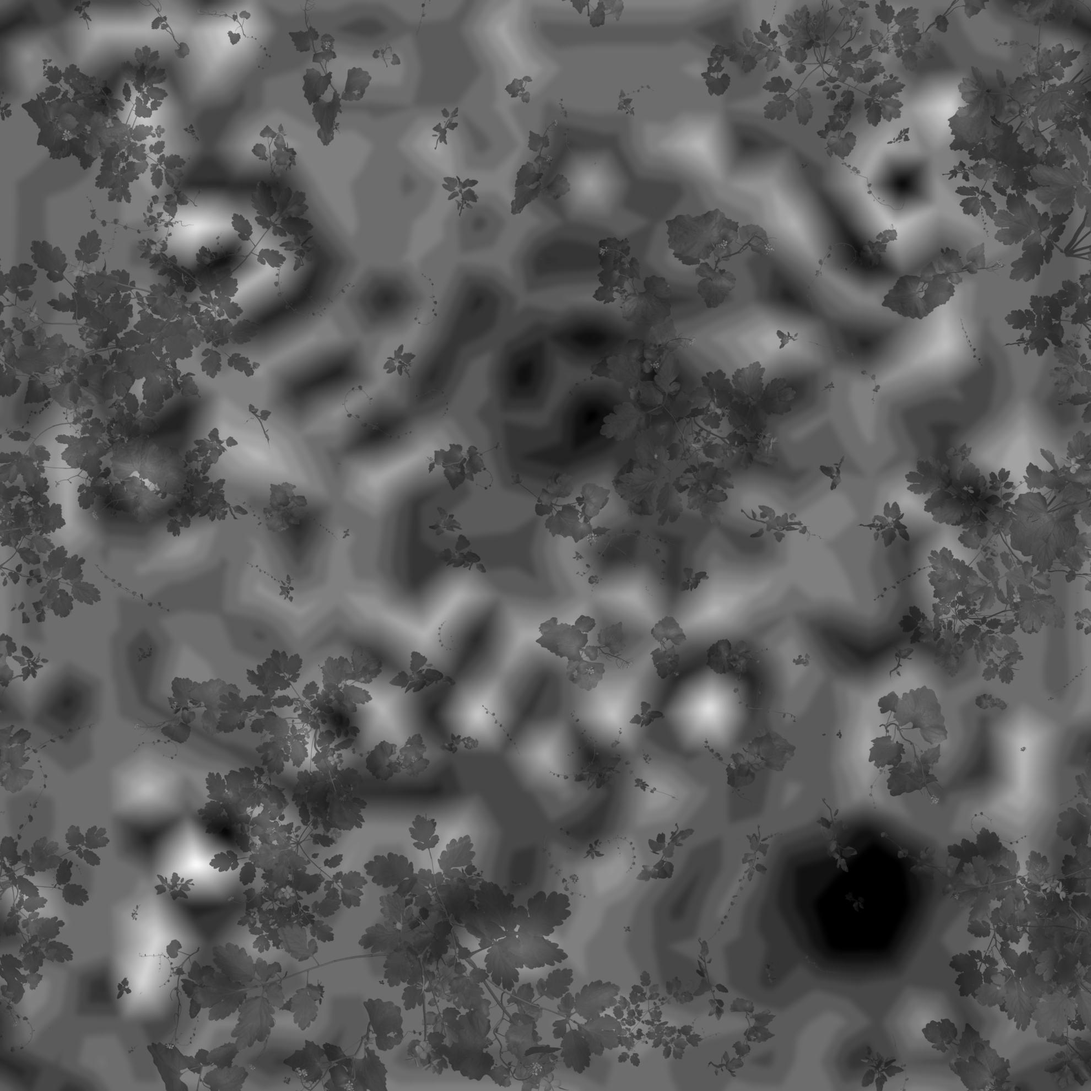landmine: (769, 819, 943, 971), (492, 310, 640, 468)
